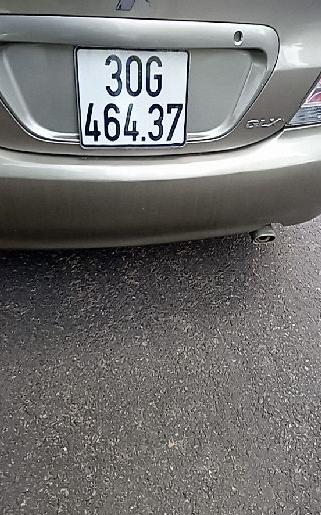Plate-iWeP: (81, 51, 186, 144)
